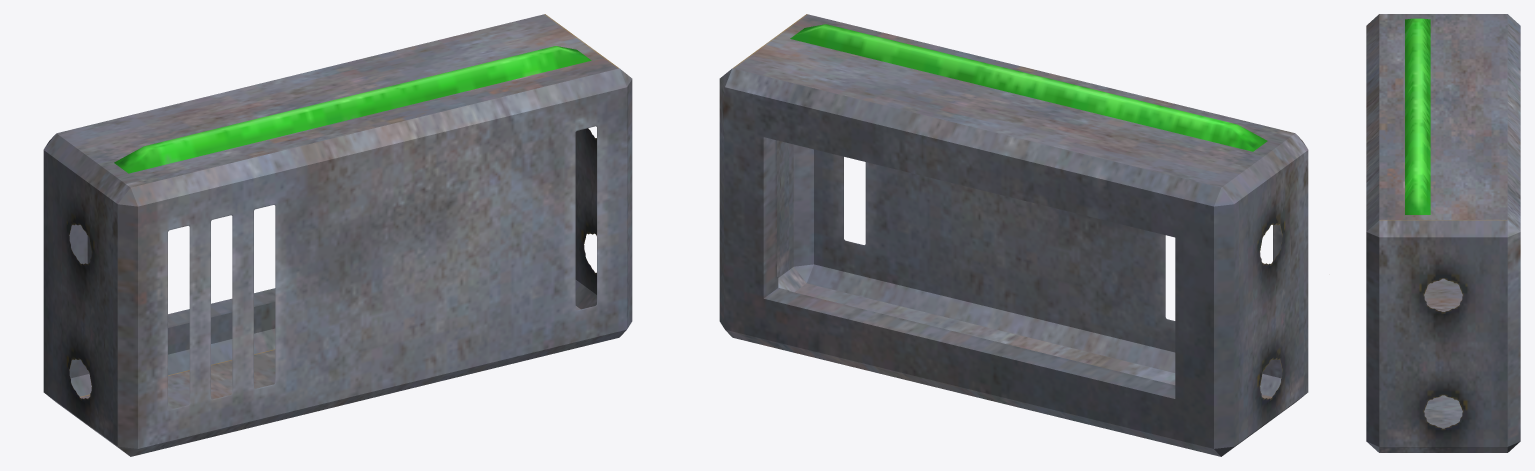
The model's file is eqp_battery_s01_l0.fbx.
3 renders of one model, left to right at view 1: azimuth 30°, elevation 25°; view 2: azimuth 150°, elevation 25°; view 3: azimuth 270°, elevation 25°, orthographic. The views are drawn at different scales.
Visible parts, largest first — view 1: mesh_node; view 2: mesh_node; view 3: mesh_node.
Boxes of the visible parts, left/top/right/bottom form: mesh_node: left=43, top=14, right=632, bottom=456; mesh_node: left=719, top=14, right=1308, bottom=456; mesh_node: left=1366, top=14, right=1520, bottom=452.
Size of the model in its own units: 0.24 by 0.105 by 0.06.
2 materials, 2 textured.
